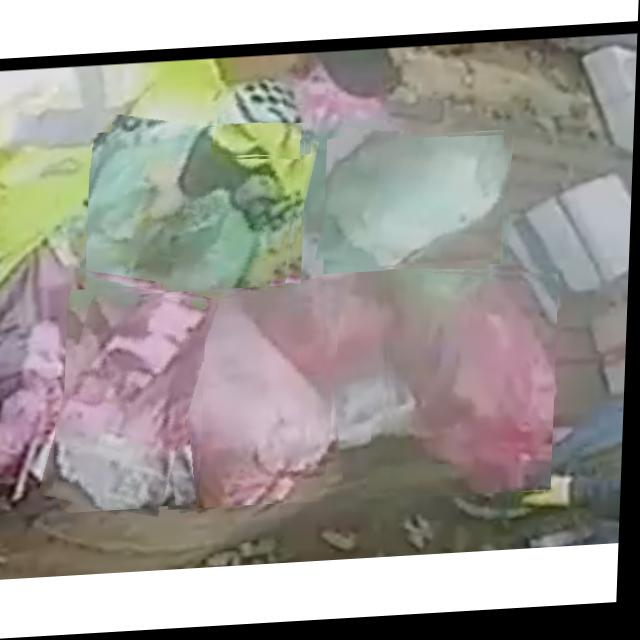general_trashbag: (89, 131, 298, 293), (327, 139, 512, 271), (218, 84, 308, 159)
other_trashbag: (389, 275, 557, 500), (167, 304, 334, 510), (59, 299, 208, 511)
